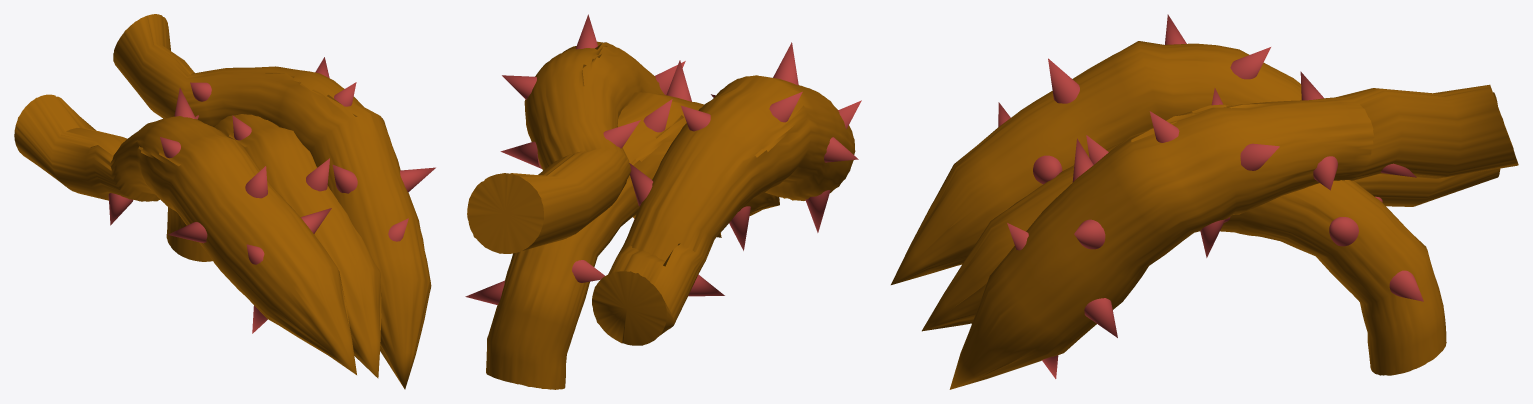
Rendered from ROnce_boss3.fbx.
3 renders of one model, left to right at view 1: azimuth 30°, elevation 25°; view 2: azimuth 150°, elevation 25°; view 3: azimuth 270°, elevation 25°, orthographic. The views are drawn at different scales.
Visible parts, largest first — view 1: ronce_pic.007; view 2: ronce_pic.007; view 3: ronce_pic.007.
Part boxes in pixels (<box>): ronce_pic.007: <box>14,14,435,389</box>; ronce_pic.007: <box>465,14,861,389</box>; ronce_pic.007: <box>891,14,1518,389</box>.
Size of the model in its own units: 199 by 177 by 338.
